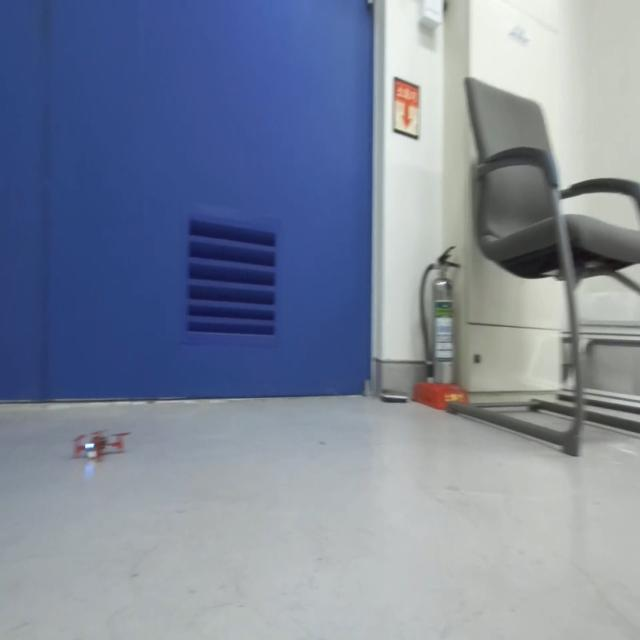crazyflie: (71, 422, 129, 463)
